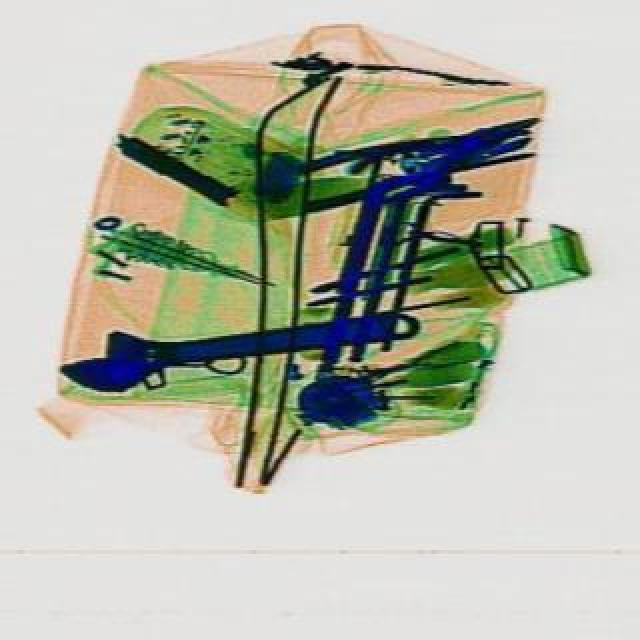scissors: (52, 294, 420, 402)
wrench: (284, 100, 544, 220)
